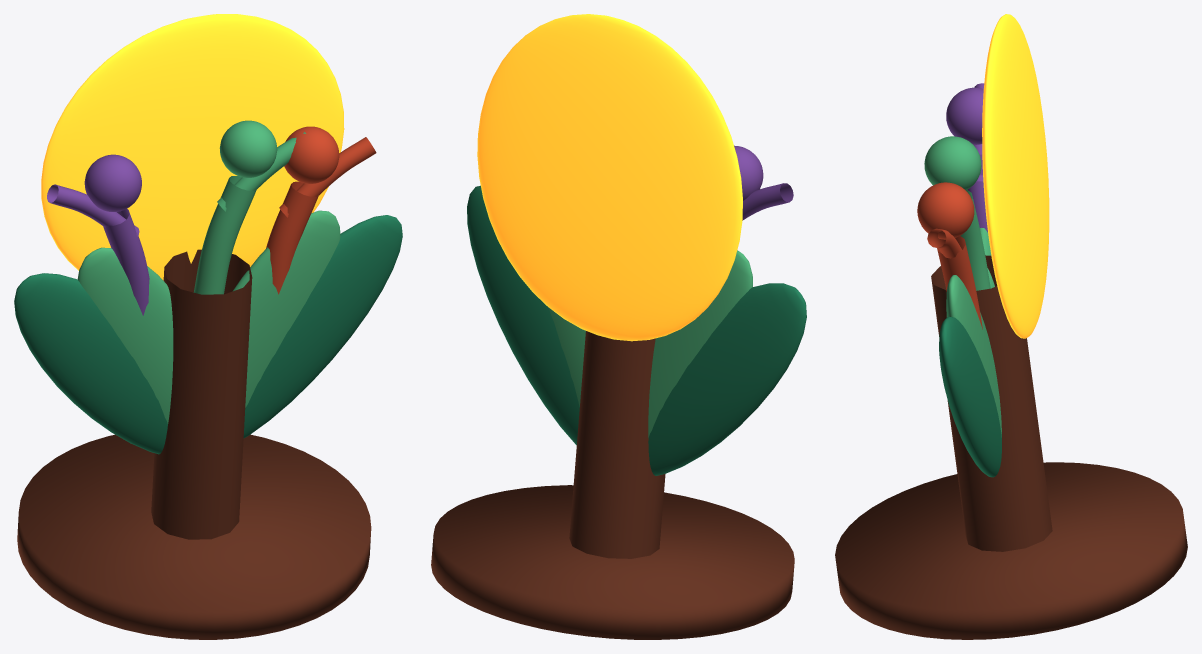
Rendered from evergreen-arts-sculpture.glb.
The picture shows the model from 3 angles, left to right: view 1: azimuth 30°, elevation 25°; view 2: azimuth 150°, elevation 25°; view 3: azimuth 270°, elevation 25°; orthographic projection. The views are drawn at different scales.
Parts seen in each view (by area): view 1: StageBase, SunDisc, TreeTrunk, LeafLeftOuter, LeafRightOuter, LeafLeftInner, LeafRightInner, FigureGreen_Body, FigureGreen_Head, FigureViolet_Head, FigureClay_Body, FigureClay_Head (+4 smaller); view 2: SunDisc, StageBase, TreeTrunk, LeafLeftOuter, LeafRightOuter, LeafLeftInner, LeafRightInner, FigureViolet_Arm, FigureViolet_Head; view 3: StageBase, SunDisc, TreeTrunk, LeafRightOuter, FigureClay_Head, FigureGreen_Head, LeafRightInner, FigureViolet_Head, FigureClay_Body, FigureGreen_Body, FigureClay_Arm, FigureViolet_Body.
Boxes of the visible parts, box(x1,y1,x2,y2) form: StageBase: box(17, 434, 371, 639); SunDisc: box(41, 14, 344, 280); TreeTrunk: box(151, 249, 252, 539); LeafLeftOuter: box(14, 273, 167, 454); LeafRightOuter: box(243, 215, 402, 438); LeafLeftInner: box(77, 247, 173, 423); LeafRightInner: box(232, 210, 340, 407); FigureGreen_Body: box(193, 176, 256, 294); FigureGreen_Head: box(219, 120, 277, 177); FigureViolet_Head: box(84, 154, 141, 211); FigureClay_Body: box(266, 181, 318, 294); FigureClay_Head: box(284, 126, 339, 183); SunDisc: box(477, 14, 742, 341); StageBase: box(431, 485, 794, 639); TreeTrunk: box(569, 331, 665, 558); LeafLeftOuter: box(648, 283, 806, 475); LeafRightOuter: box(467, 185, 579, 445); LeafLeftInner: box(648, 250, 752, 437); LeafRightInner: box(549, 308, 585, 406); FigureViolet_Arm: box(742, 183, 793, 220); FigureViolet_Head: box(734, 145, 763, 200); StageBase: box(835, 462, 1187, 639); SunDisc: box(982, 14, 1049, 338); TreeTrunk: box(931, 255, 1052, 551); LeafRightOuter: box(939, 316, 1001, 477); FigureClay_Head: box(917, 182, 974, 239); FigureGreen_Head: box(924, 136, 981, 190); LeafRightInner: box(946, 275, 1001, 437); FigureViolet_Head: box(946, 87, 983, 144); FigureClay_Body: box(937, 236, 982, 329); FigureGreen_Body: box(960, 190, 990, 290); FigureClay_Arm: box(927, 228, 961, 258); FigureViolet_Body: box(967, 154, 987, 232).
Size of the model in its own units: 3.17 by 4.71 by 2.71.
